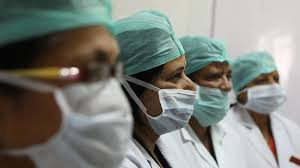mask: (22, 42, 139, 168), (129, 43, 201, 124), (234, 51, 288, 122), (190, 46, 238, 125)
